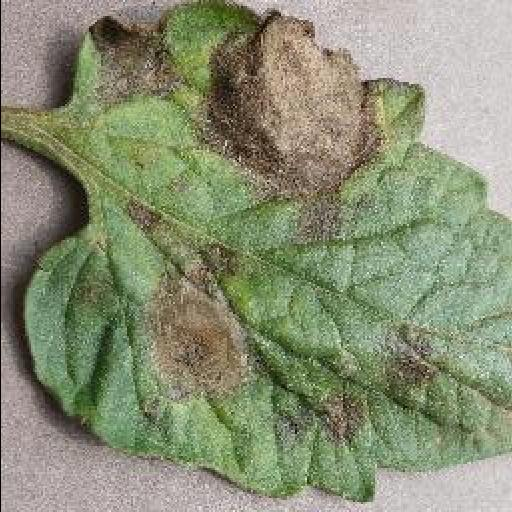disease_tomato: (22, 0, 512, 502)
